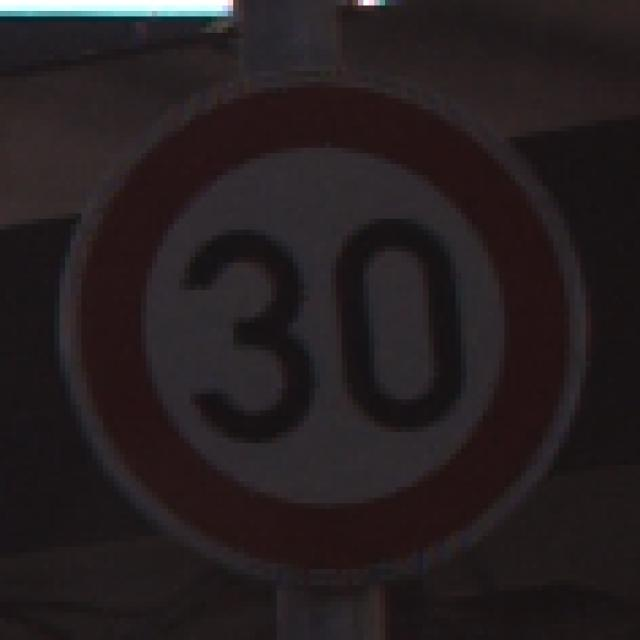Speed Limit -30-: (51, 52, 584, 583)
